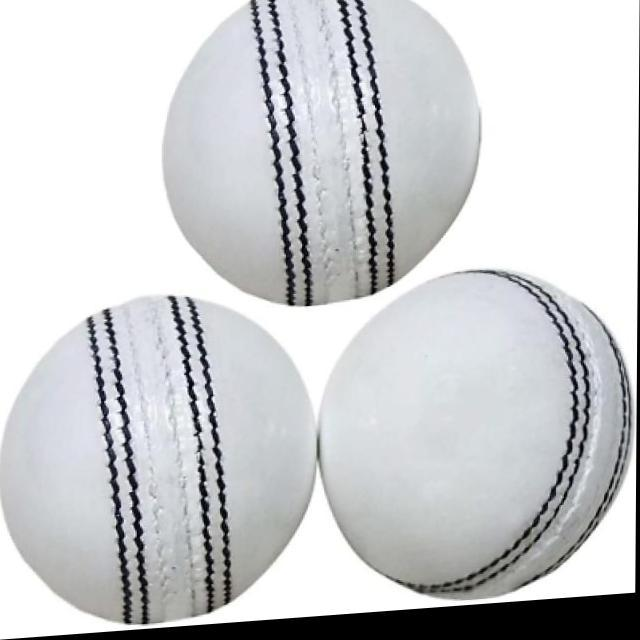cricket ball: (318, 275, 635, 610), (0, 297, 318, 628), (162, 0, 482, 313)
